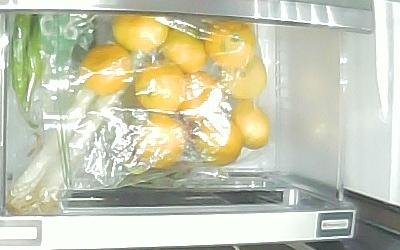tangerine_vinyl: (79, 44, 134, 96), (137, 115, 186, 170), (206, 21, 258, 71), (192, 116, 242, 167), (136, 61, 185, 113), (112, 15, 170, 54), (179, 71, 222, 120), (162, 28, 208, 72), (232, 101, 271, 149), (222, 57, 265, 100)
